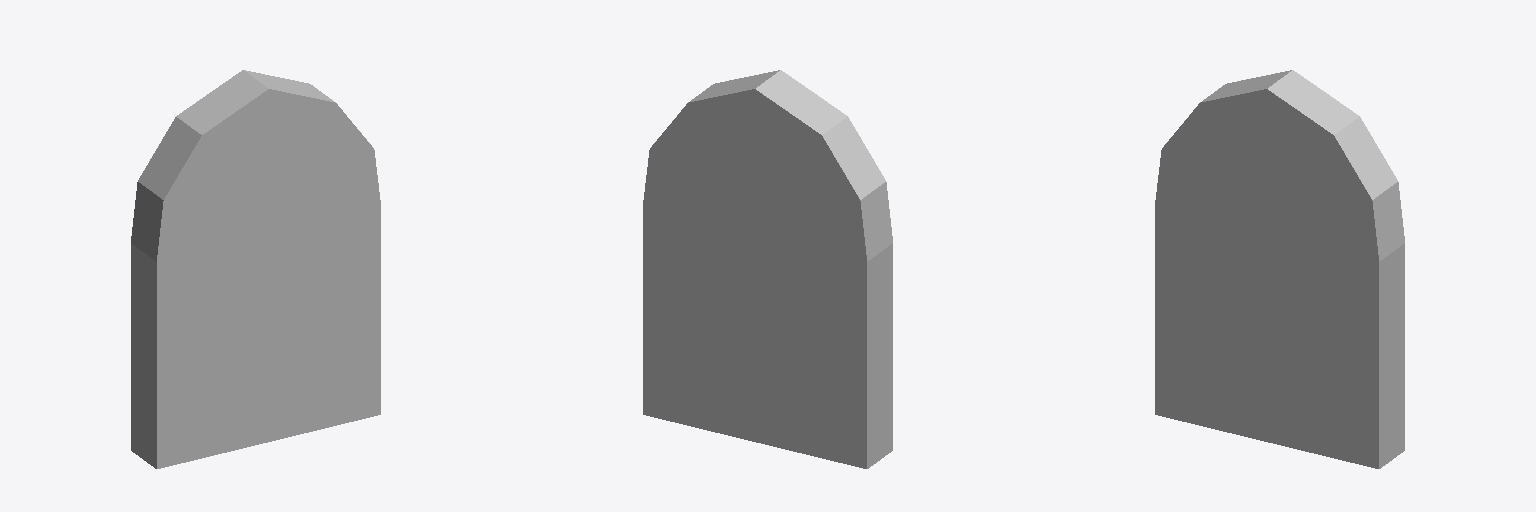
File: gate.obj
The picture shows the model from 3 angles: view 1: azimuth 30°, elevation 25°; view 2: azimuth 150°, elevation 25°; view 3: azimuth 330°, elevation 25°; orthographic projection.
Visible parts, largest first — view 1: gate; view 2: gate; view 3: gate.
Part boxes in pixels (bbox=[...]): gate: bbox=[131, 70, 380, 468]; gate: bbox=[643, 70, 892, 468]; gate: bbox=[1155, 70, 1404, 468].
Size of the model in its own units: 2 by 3.01 by 0.4013.